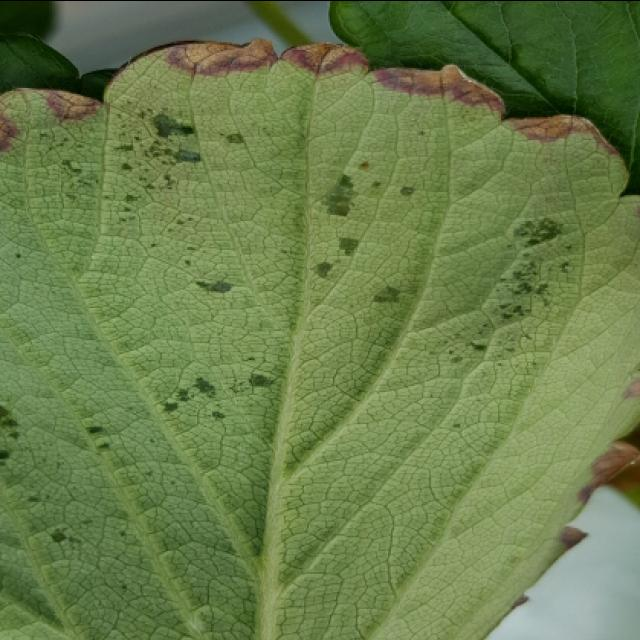Angular Leafspot: (0, 77, 588, 600)
